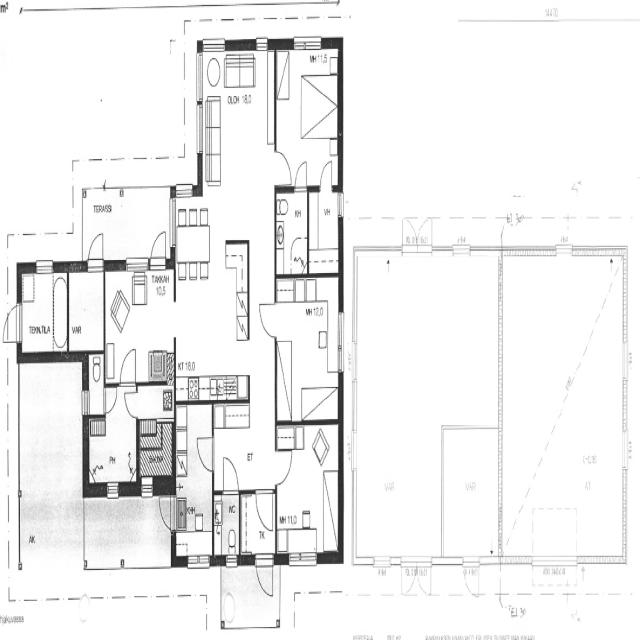door: (176, 400, 214, 556), (275, 174, 308, 278), (400, 213, 434, 254), (295, 154, 331, 191), (254, 485, 276, 534), (553, 215, 575, 261), (257, 296, 279, 339), (272, 443, 294, 486), (219, 452, 241, 494), (2, 301, 23, 345), (272, 143, 293, 187), (118, 343, 138, 387), (255, 552, 274, 598), (196, 432, 216, 474), (462, 555, 480, 600), (86, 228, 105, 270), (157, 492, 176, 532), (149, 226, 167, 268), (318, 154, 334, 192), (293, 156, 309, 192), (102, 381, 119, 414), (124, 388, 139, 418)
window: (336, 304, 346, 378), (290, 32, 325, 52), (287, 547, 319, 568), (193, 98, 204, 159), (194, 49, 205, 108), (620, 420, 630, 475), (620, 333, 630, 387), (185, 550, 212, 570), (168, 193, 177, 249), (200, 35, 227, 53), (124, 254, 149, 273), (349, 425, 358, 477), (173, 180, 196, 199), (451, 241, 472, 261), (34, 255, 55, 274), (372, 552, 394, 568), (254, 32, 270, 51), (105, 478, 120, 498), (337, 188, 346, 220), (224, 552, 238, 568)
zone: (506, 247, 628, 561), (174, 197, 250, 397), (355, 423, 442, 558), (272, 273, 342, 424), (274, 44, 340, 185), (274, 422, 340, 557), (106, 264, 176, 380), (442, 426, 501, 560), (176, 403, 213, 555), (87, 387, 138, 487), (21, 268, 68, 356), (137, 381, 173, 471), (68, 265, 104, 352), (275, 188, 308, 275), (307, 187, 340, 274), (213, 489, 240, 558), (84, 351, 104, 417)
